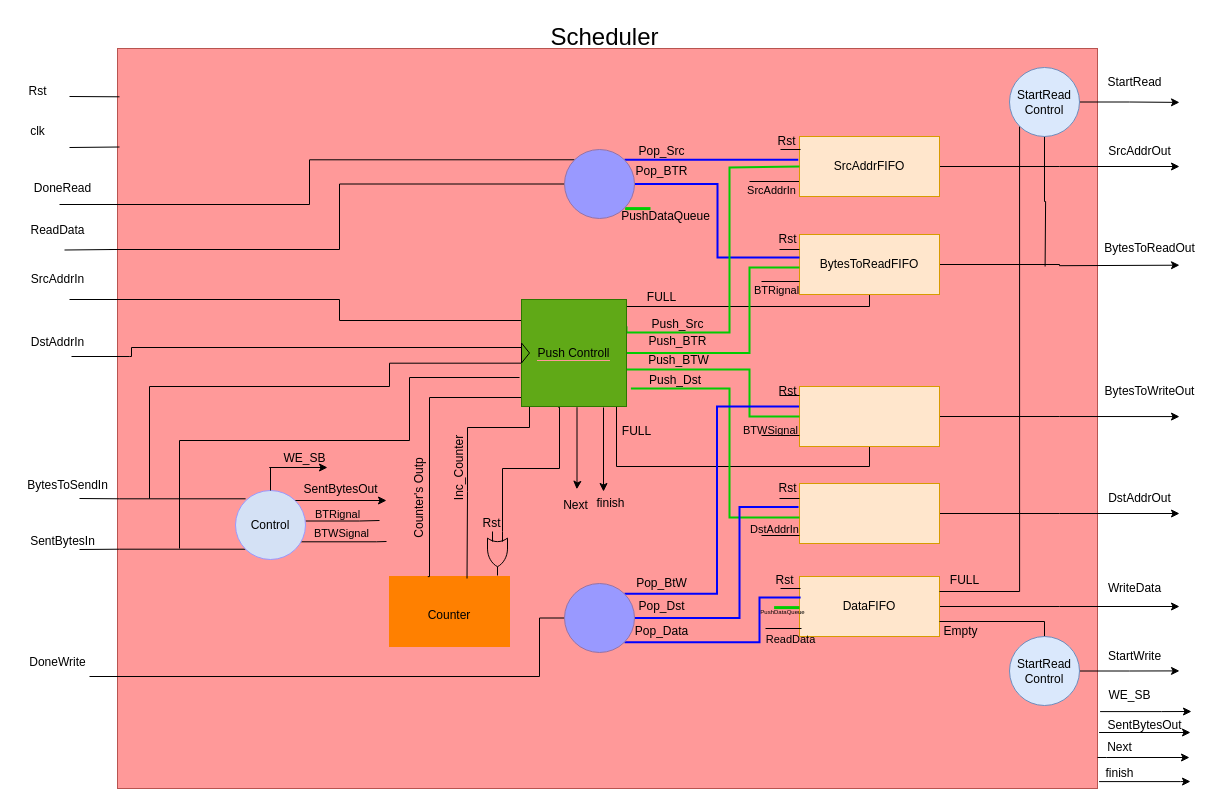
The diagram is 1221 pixels wide and 807 high, and some of its shapes have lost their labels. Here are the shapes that lost their labels. From the top down, the centre of each, then its label:
At (x=599, y=183): "PopRead Control".
At (x=869, y=416): "BytesToWriteFIFO".
At (x=869, y=513): "DstAddrWriteFIFO".
At (x=599, y=617): "PopWrite Control".
